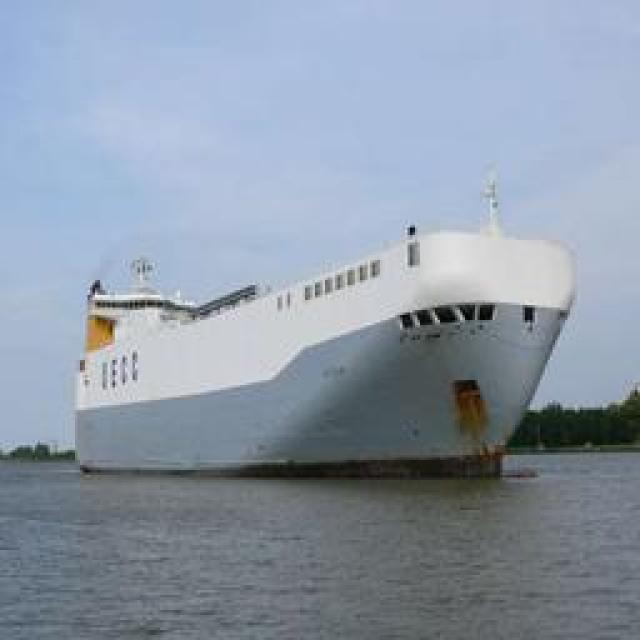CIV_Ship: (80, 196, 588, 466)
